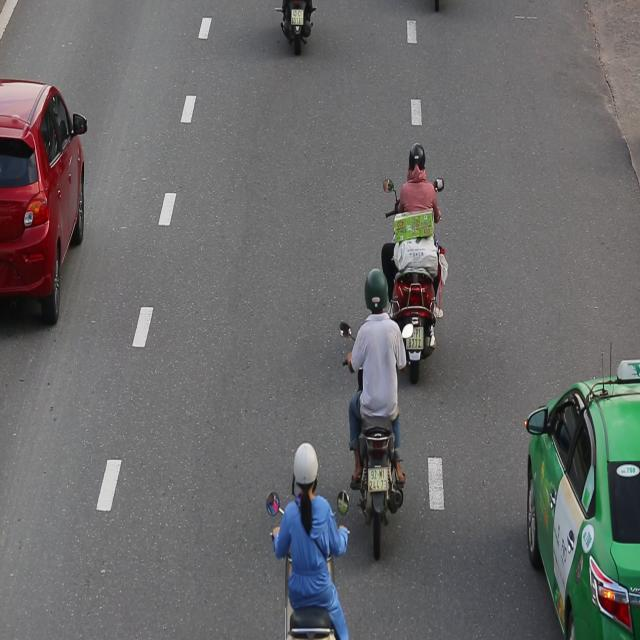motorbike: (336, 269, 410, 564), (383, 139, 449, 386)
